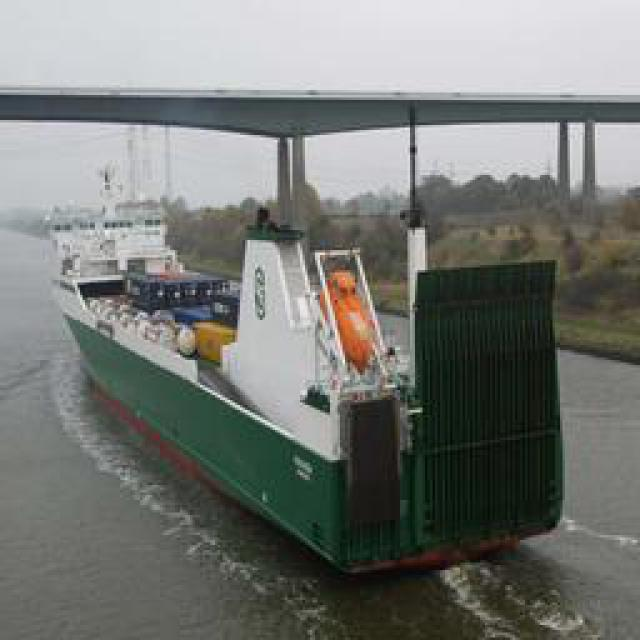Ship: (46, 171, 592, 582)
